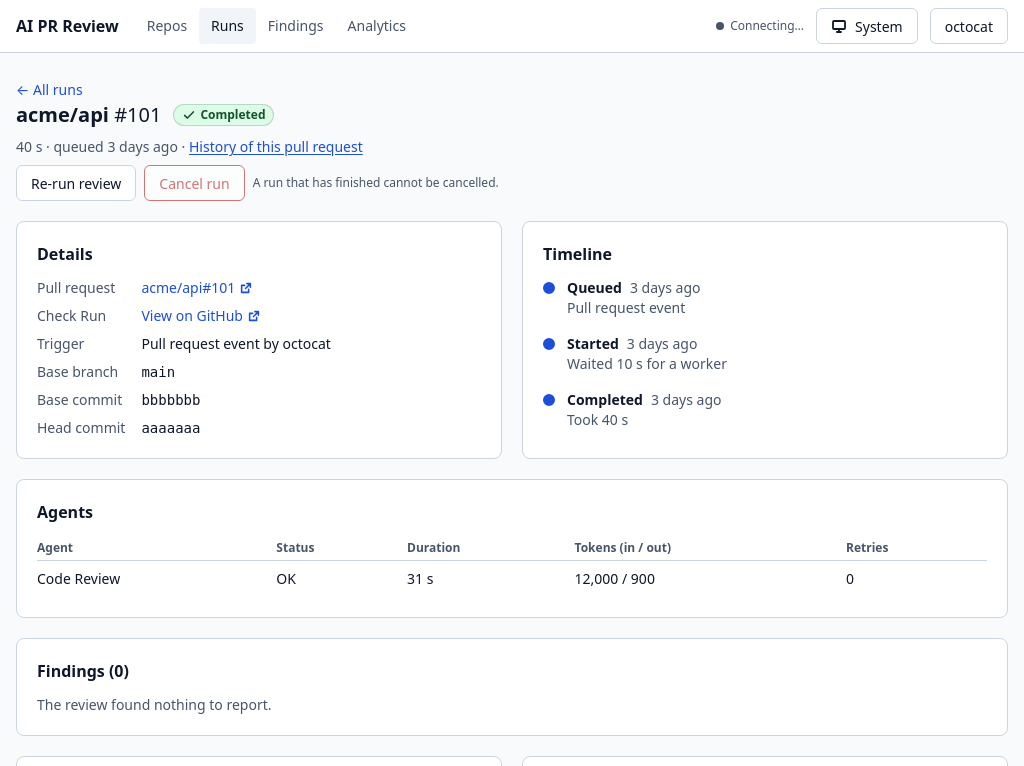
it: Re-run › asks first, then queues a linked run and opens it
Click the button "Re-run review". click: (76, 183)
box: [16, 165, 136, 201]
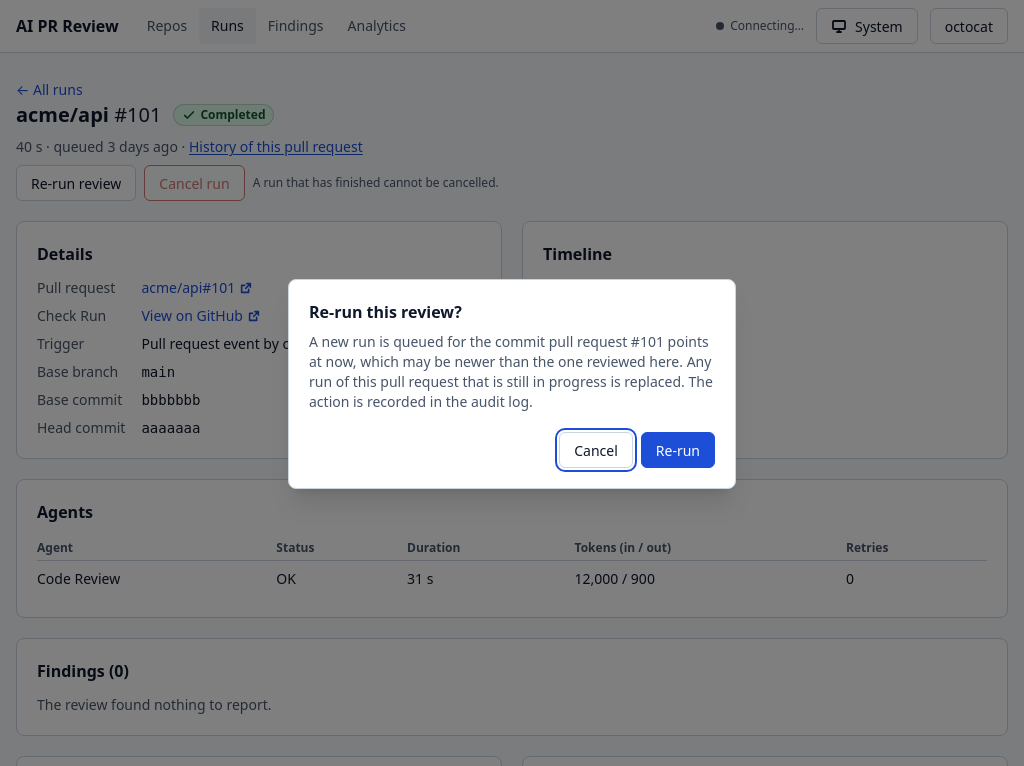
Expected: the dialog "Re-run this review?" shows "new run is queued for the commit", [309, 332, 640, 351]
Expected: the dialog "Re-run this review?" shows "audit log", [309, 332, 713, 411]
Click the button "Re-run". click: (678, 450)
box: [641, 432, 715, 468]
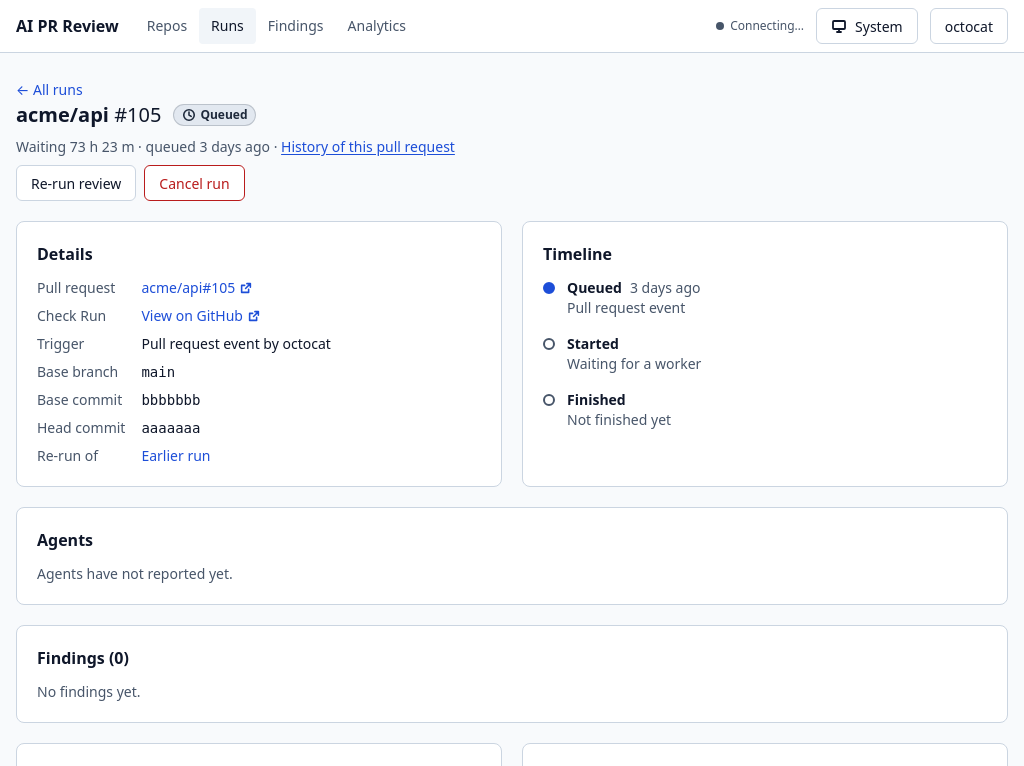
Expected: the text "Re-run of" is shown, [37, 446, 98, 465]
Expected: the text "Queued" is shown, [173, 104, 256, 126]
